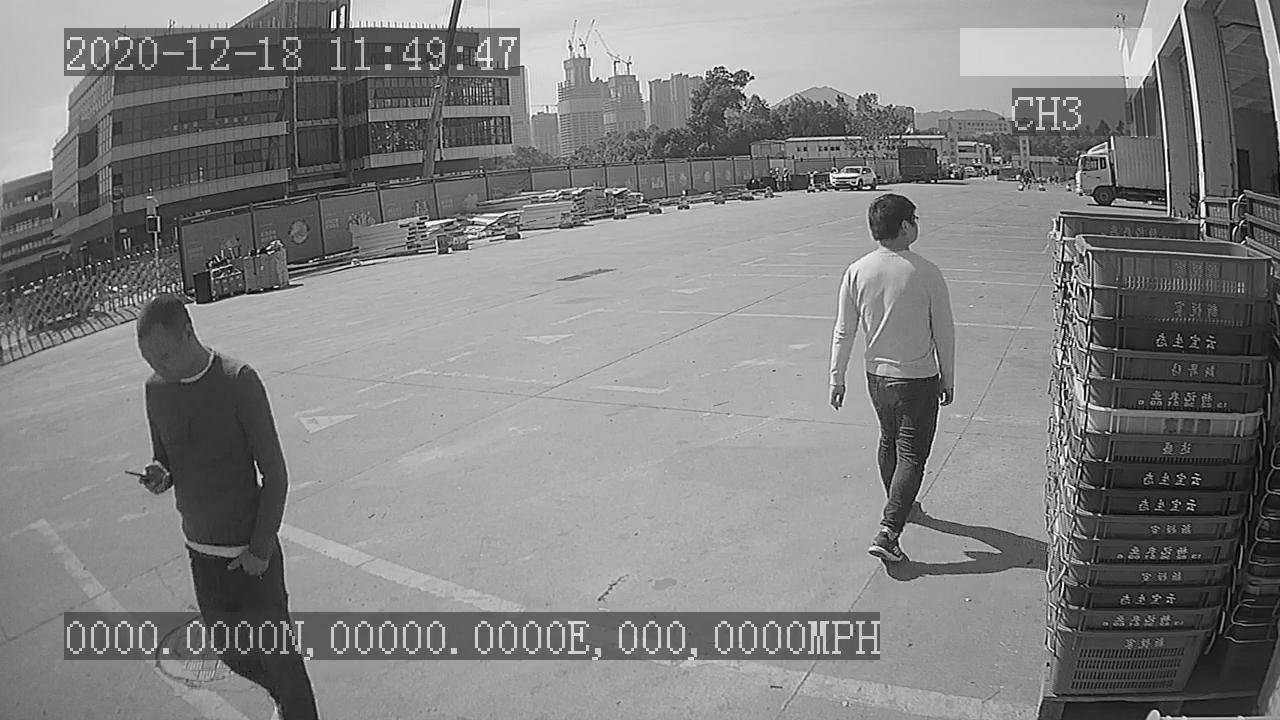person: (820, 188, 963, 576)
